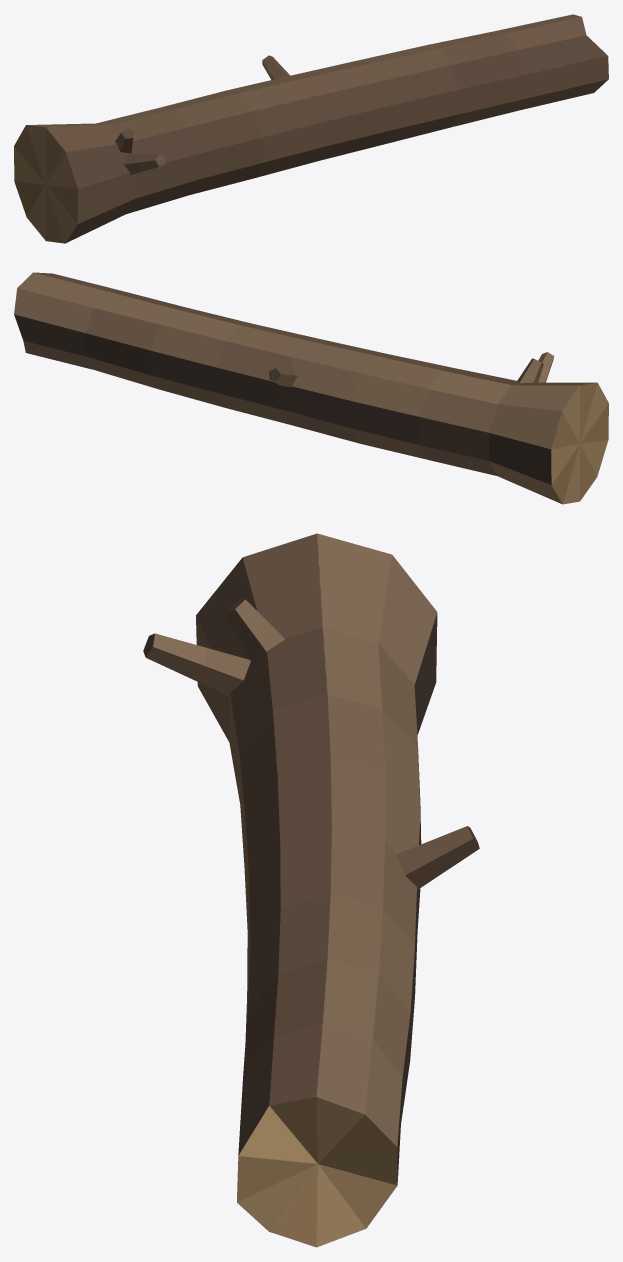
Rendered from SM_Log_Fallen_Long.glb.
3 views of the same model, one above another, from view 1: azimuth 30°, elevation 25°; view 2: azimuth 150°, elevation 25°; view 3: azimuth 270°, elevation 25° (orthographic). The views are drawn at different scales.
Visible parts, largest first — view 1: SM_Log_Fallen_Long; view 2: SM_Log_Fallen_Long; view 3: SM_Log_Fallen_Long.
Part boxes in pixels (x1=…): SM_Log_Fallen_Long: x1=14, y1=14, x2=608, y2=243; SM_Log_Fallen_Long: x1=14, y1=272, x2=608, y2=504; SM_Log_Fallen_Long: x1=143, y1=533, x2=479, y2=1247.
Bounding box in the file's own units: 4.13 × 0.824 × 1.1.
Materials: 1 (1 with a texture image).
